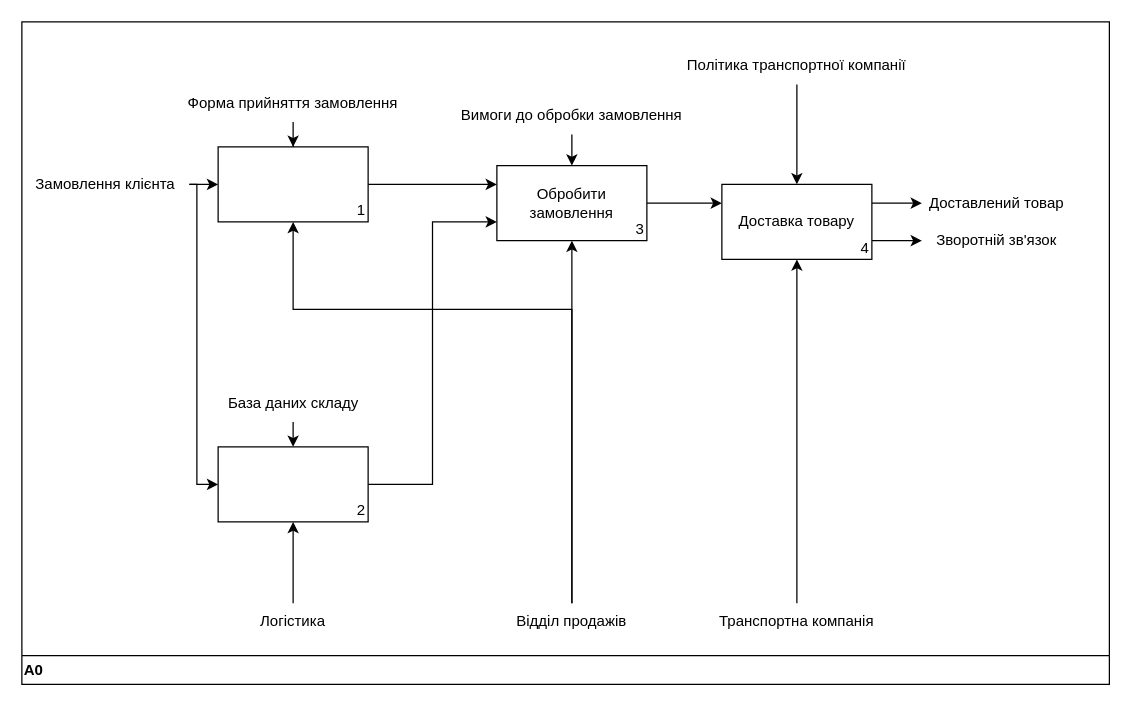
This 1131x706 diagram has some shape labels left out. Here are the shapes that lost their labels. From the top down, the box of each, then its label:
(217, 146, 368, 222): Отримати замовлення
(217, 446, 368, 522): Дані про склад
